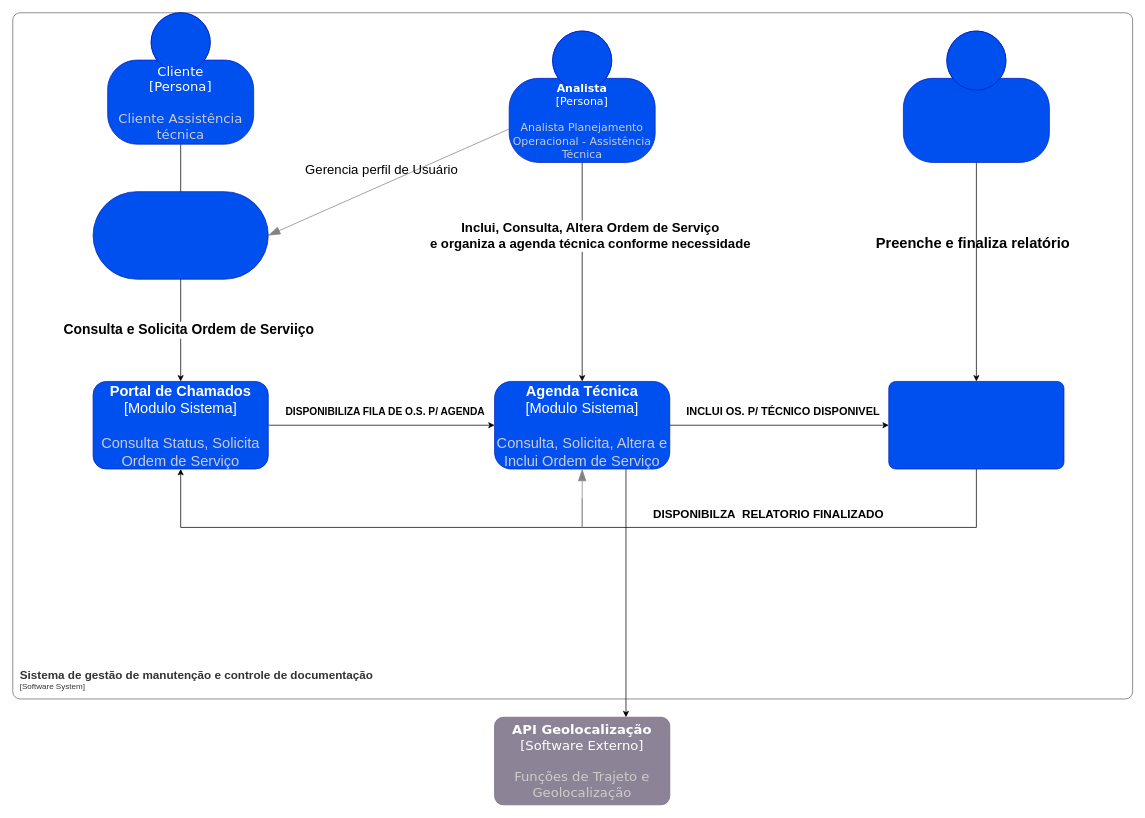
Some shapes in this 1145 by 818 pixel diagram are drawn without their labels. Each missing label, with the box of its shape:
Ordem de Serviço [Modulo Sistema] Preenchimento do relatório em campo: (888, 381, 1064, 469)
Técnico de Manutenção [Persona] Preenchimento e execução a manutenção no Cliente: (903, 30, 1049, 162)
Usuário [Modulo Sistema] Cadastro, Login e Autenticação: (92, 191, 268, 279)
